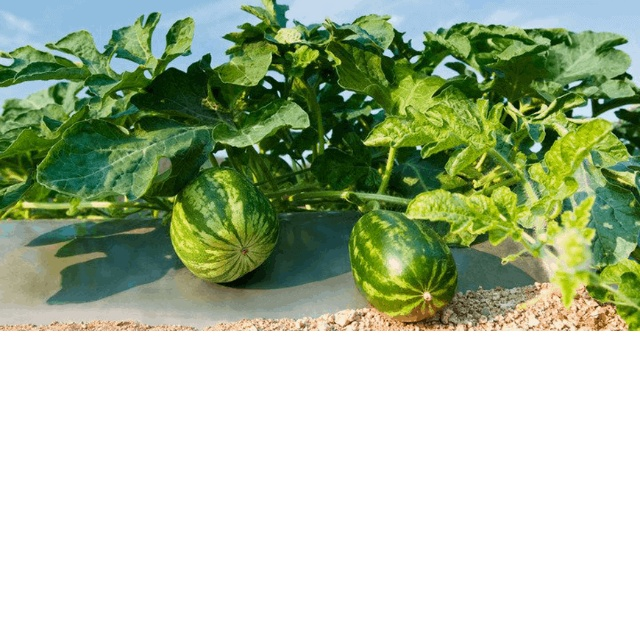dua_hau: (170, 167, 276, 285), (347, 210, 457, 323)
